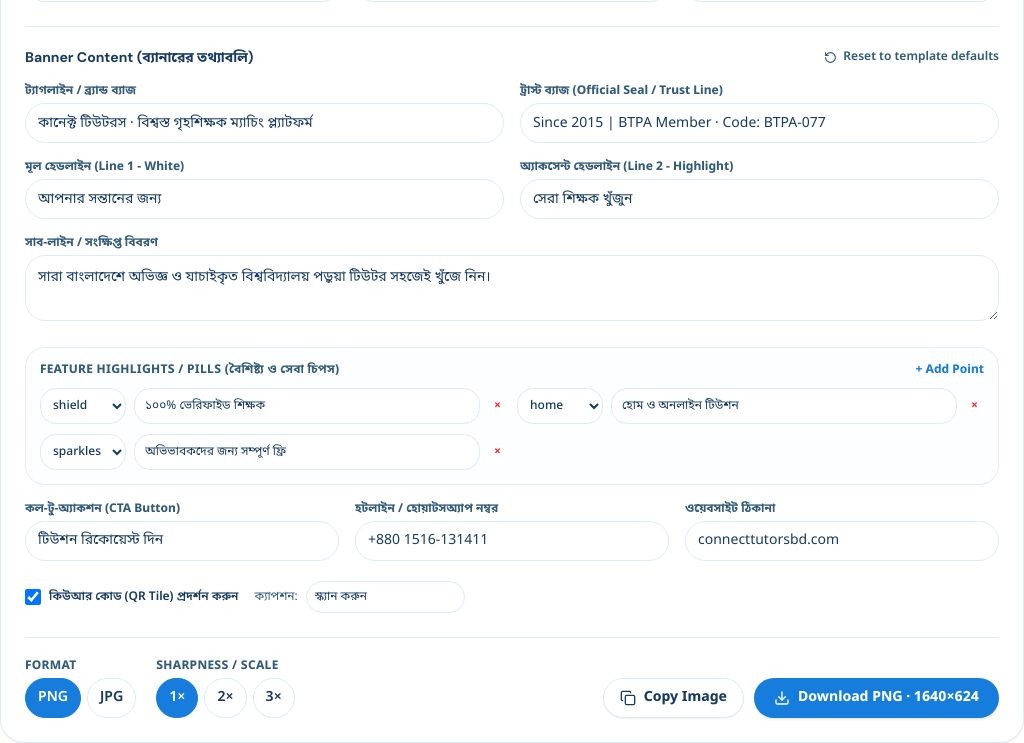
Test case: BannerStudioContent › adds and updates feature pills
(page scrolled)
Expected: the number of fields with placeholder "পয়েন্টের বিবরণ..." is 3, [134,388,480,424]; [611,388,957,424]; [134,434,480,470]
Step 1. Click the button "+ Add Point" → (950, 370), box [916,362,984,378]
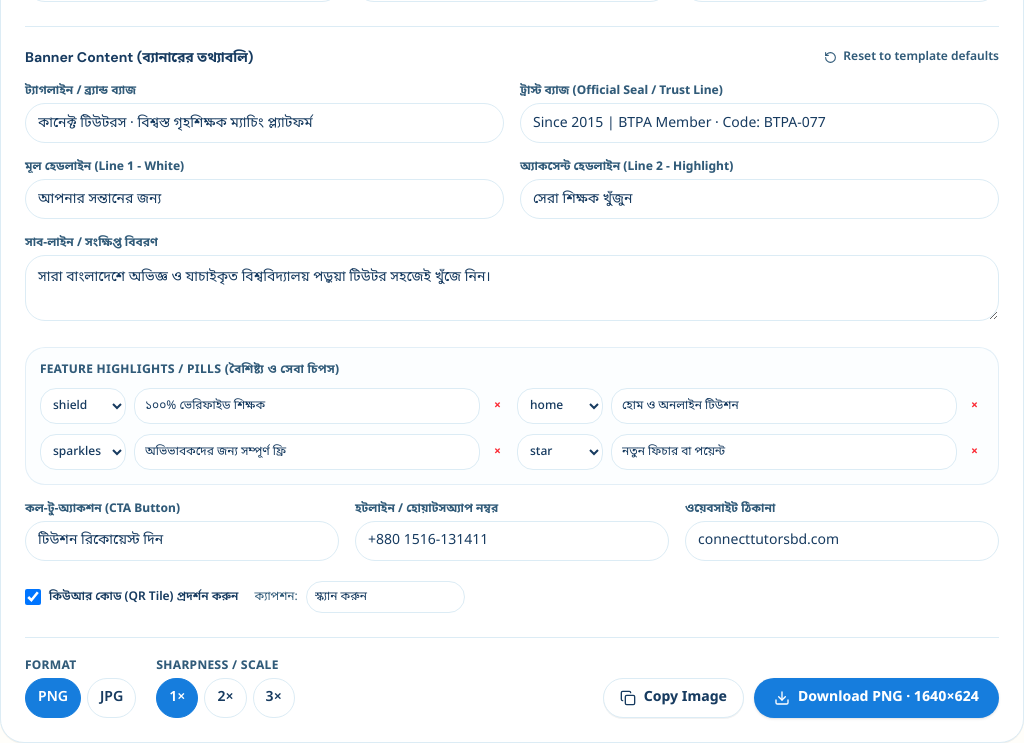
Result: the number of fields with placeholder "পয়েন্টের বিবরণ..." is 4 at [134,388,480,424]; [611,388,957,424]; [134,434,480,470]; [611,434,957,470]
